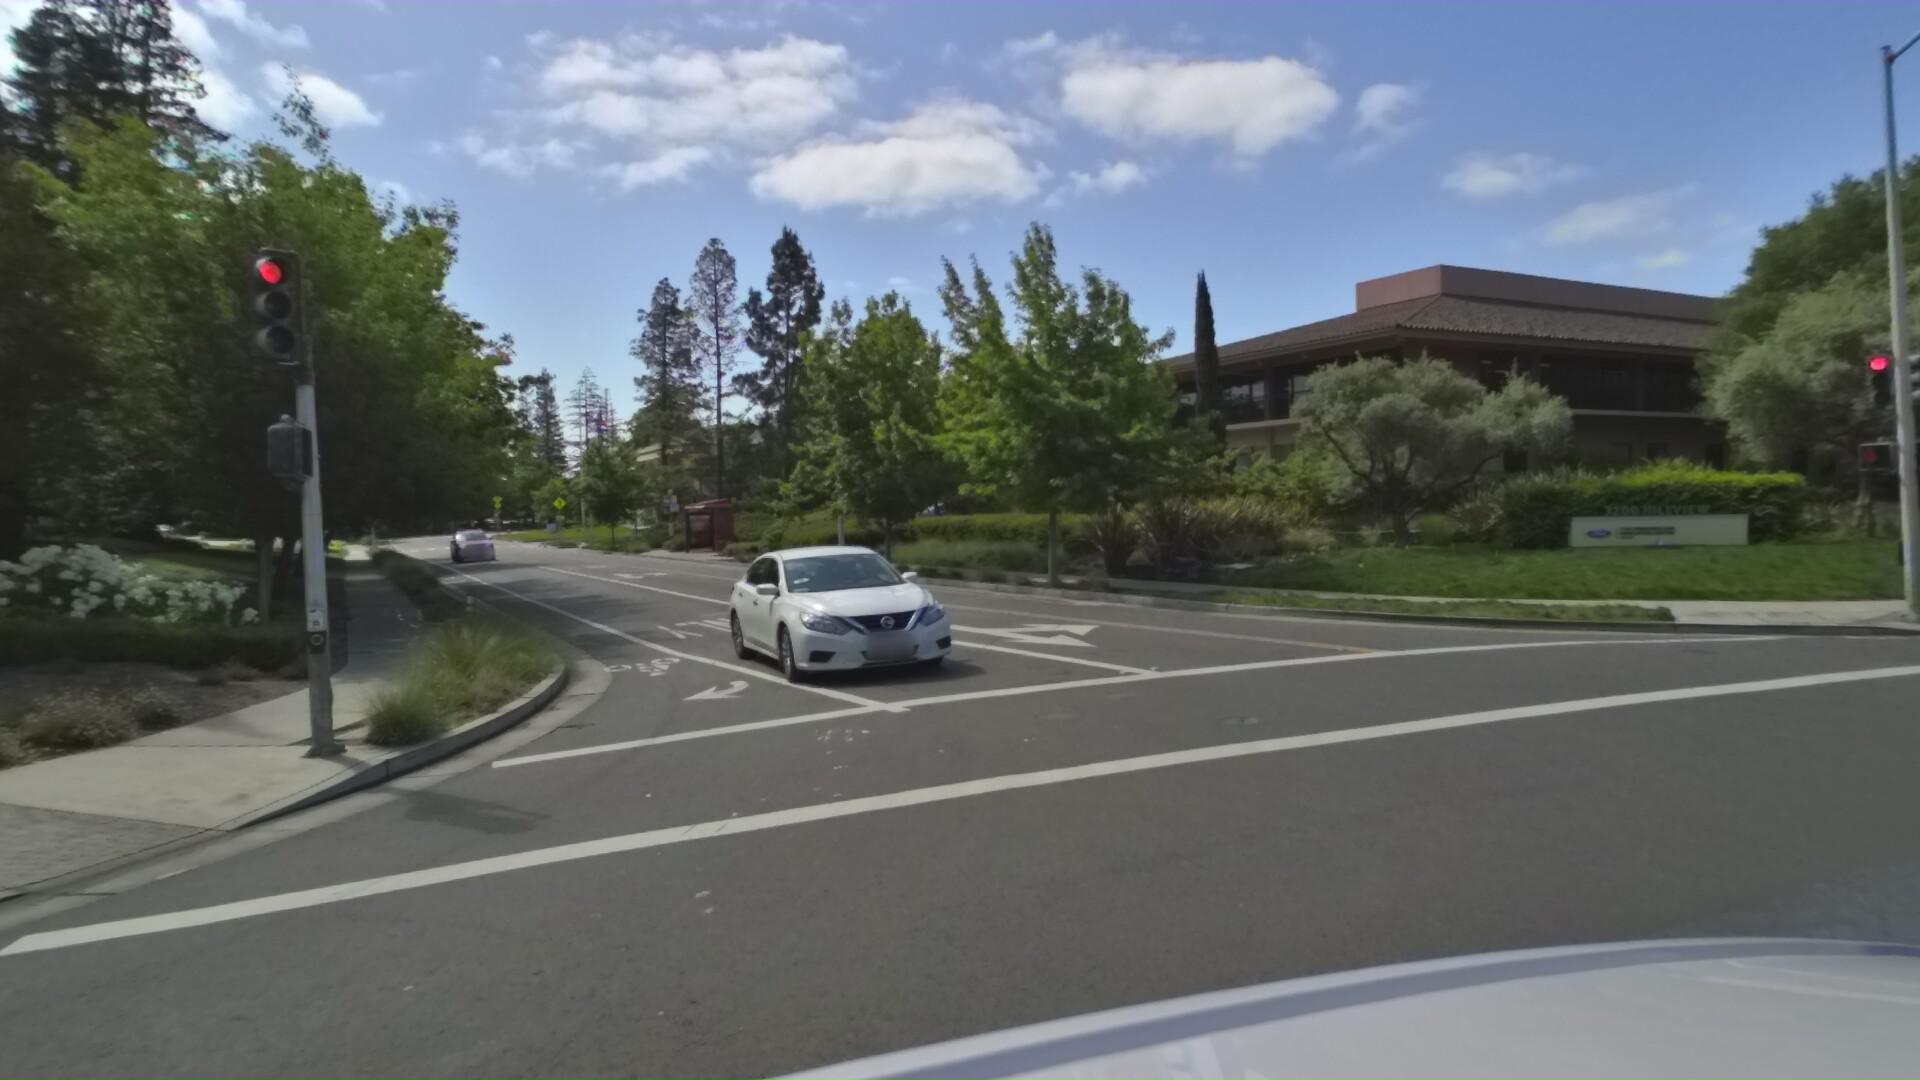car: (735, 524, 984, 694), (451, 527, 505, 564)
